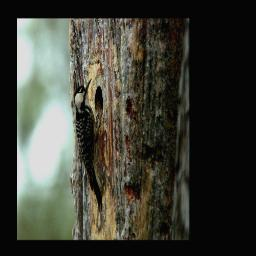Woodpecker: (70, 74, 110, 222)
